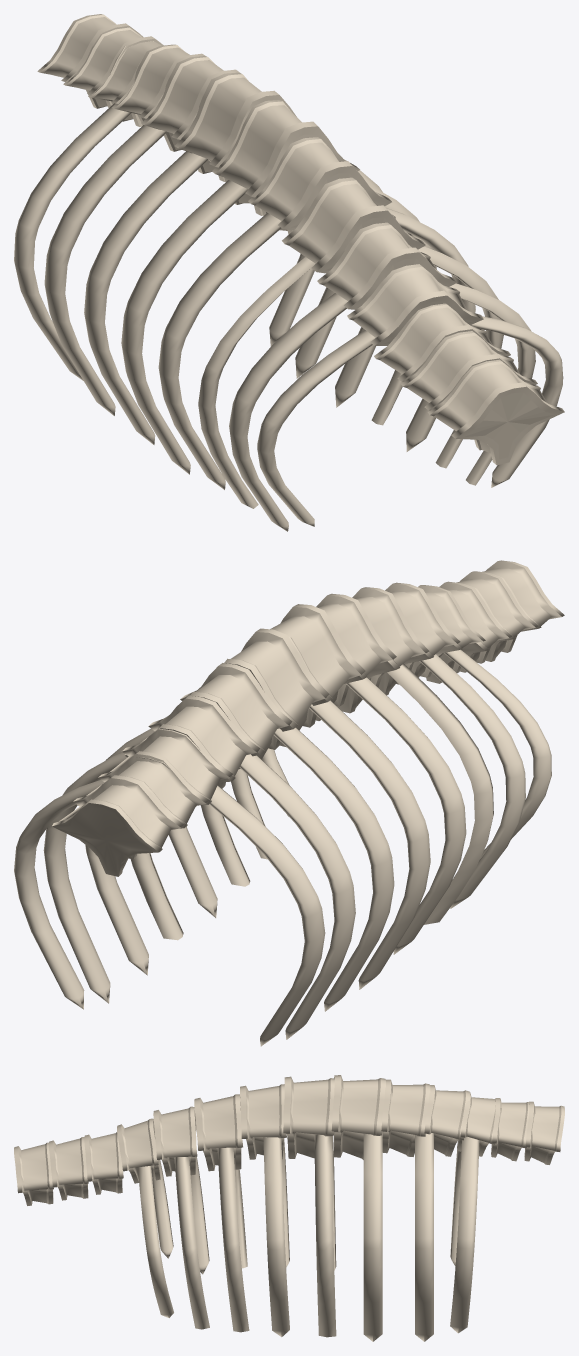
File: Body.fbx
3 renders of one model, top to bottom at view 1: azimuth 30°, elevation 25°; view 2: azimuth 150°, elevation 25°; view 3: azimuth 270°, elevation 25°, orthographic. The views are drawn at different scales.
Visible parts, largest first — view 1: Columna; view 2: Columna; view 3: Columna.
Part boxes in pixels (x1,y1,x2,y2): Columna: [14, 14, 564, 531]; Columna: [14, 560, 564, 1046]; Columna: [14, 1075, 564, 1341].
Size of the model in its own units: 6.46 by 7.03 by 15.11.
